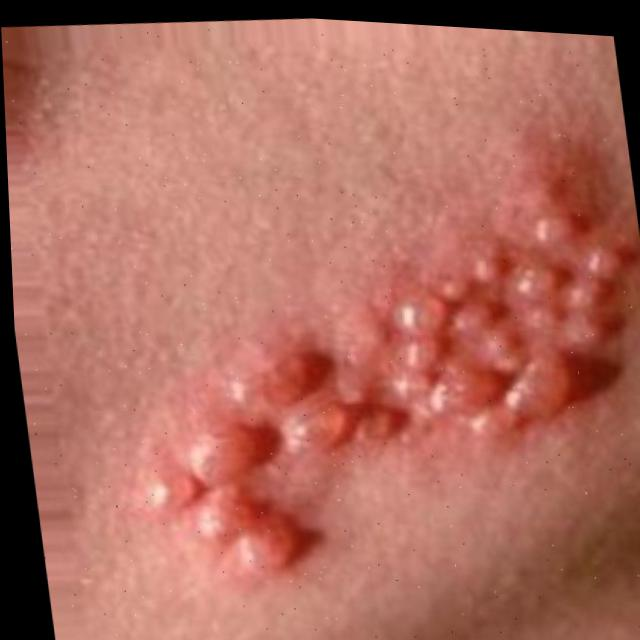Shingles: (110, 186, 640, 603)
